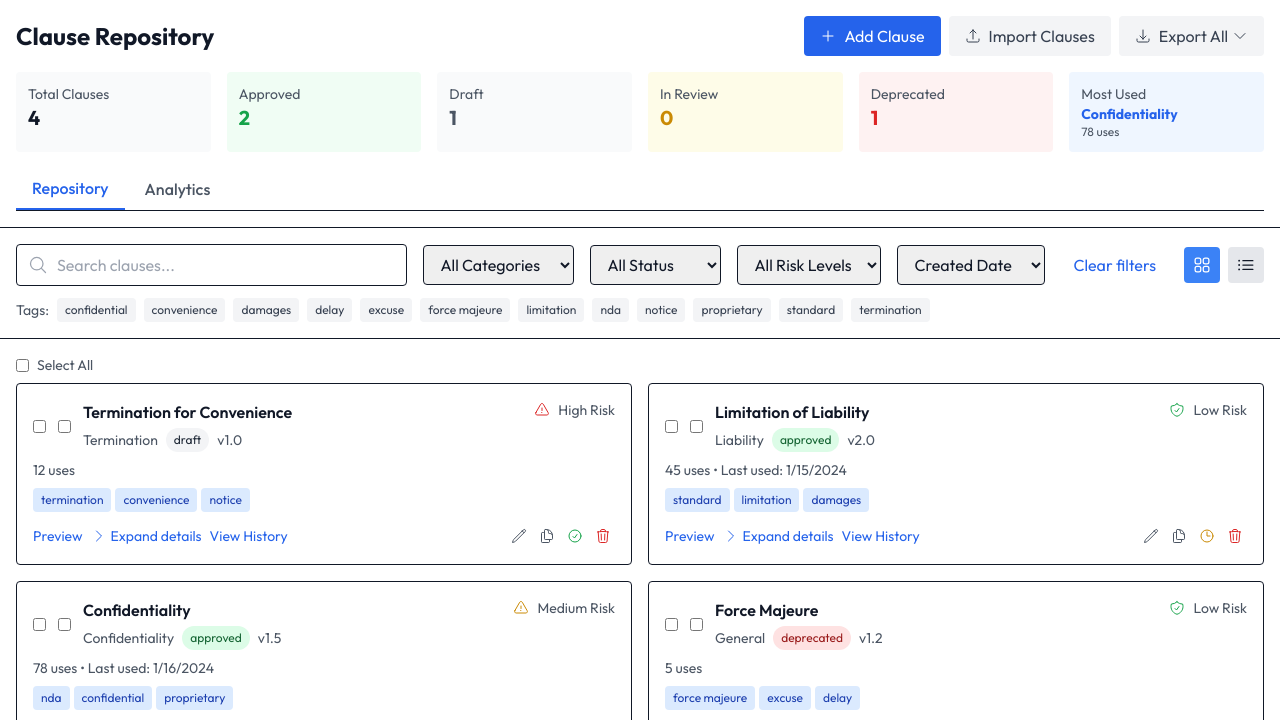
Scenario: ClauseRepository › View Modes › should switch between grid and list view
Click the button named "list view".
click(1246, 265)  # box [1228, 247, 1264, 283]
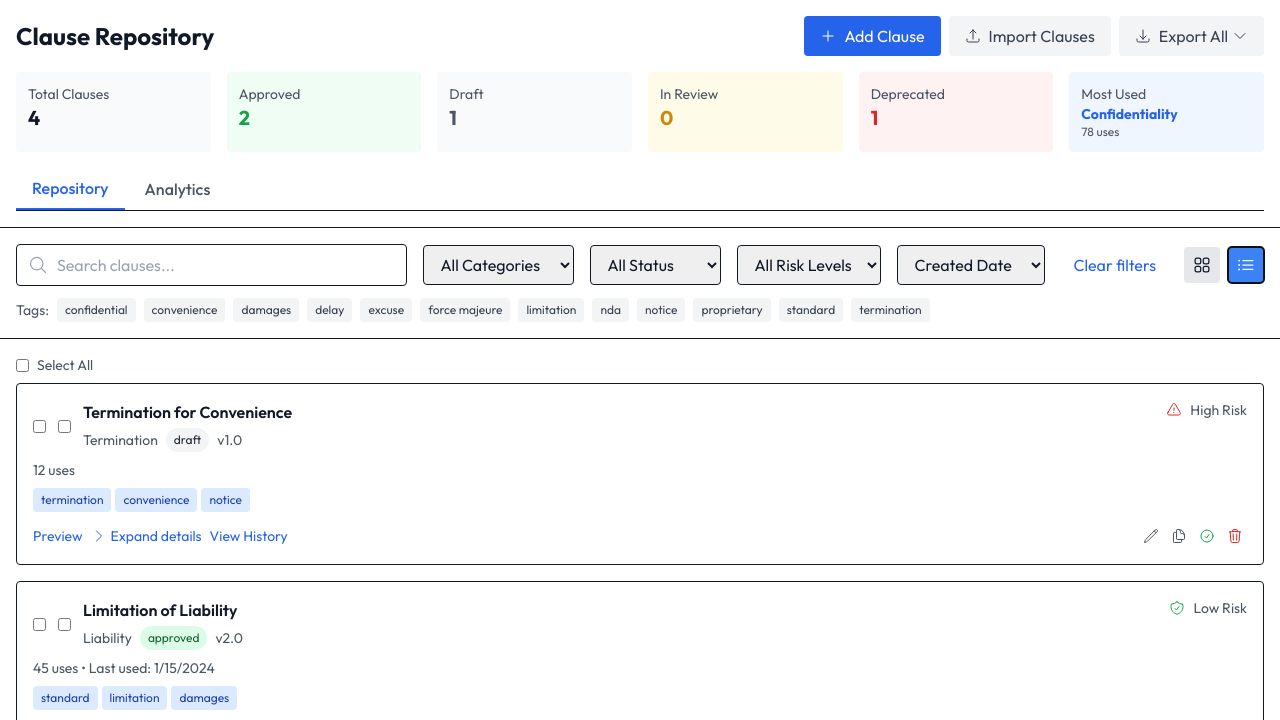
Click the button named "grid view".
click(1202, 265)  # box [1184, 247, 1220, 283]
(page scrolled)
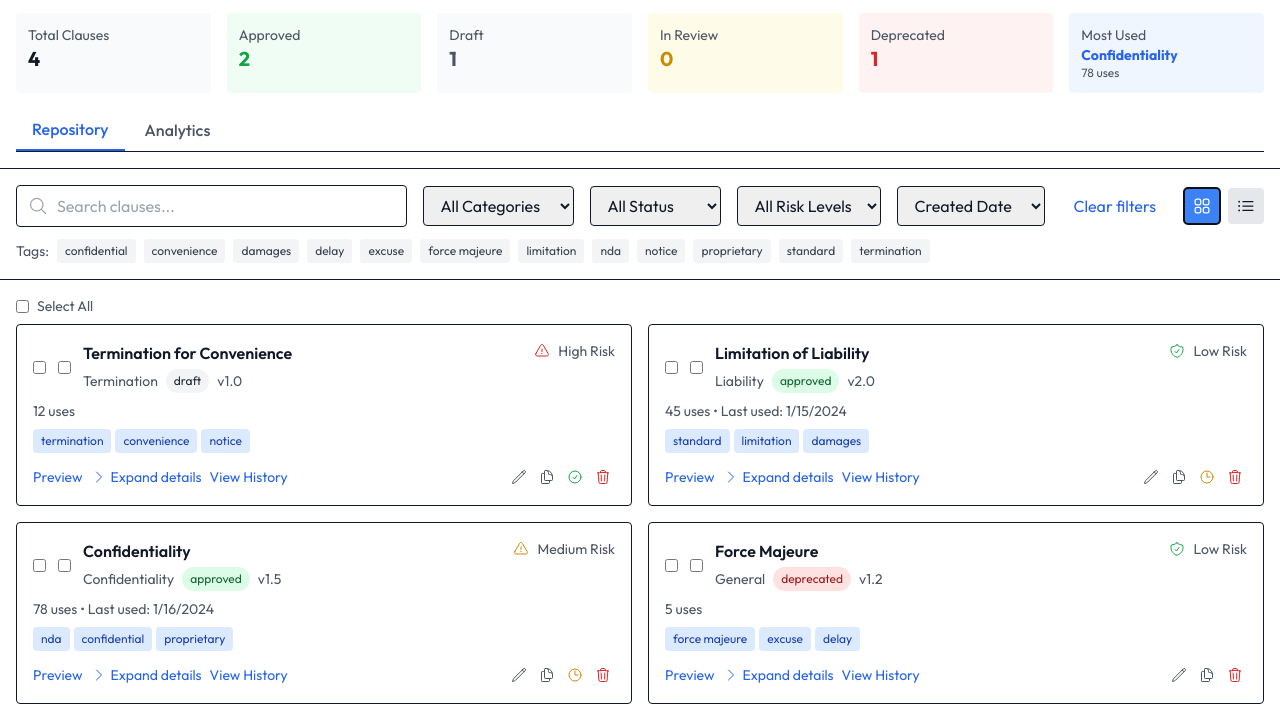
Expected: the element with test id "grid-view" is shown, [16, 324, 1264, 704]
